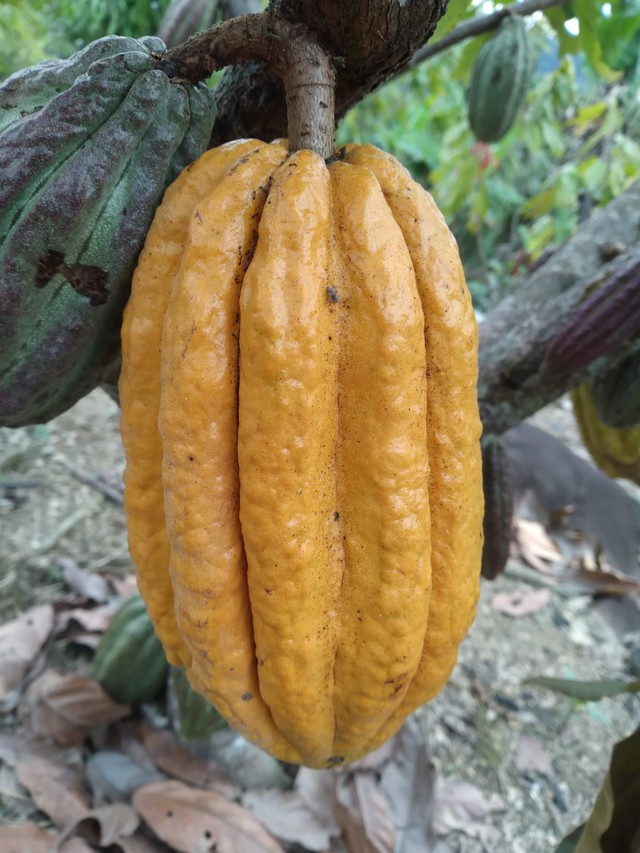Health: (114, 130, 501, 778)
